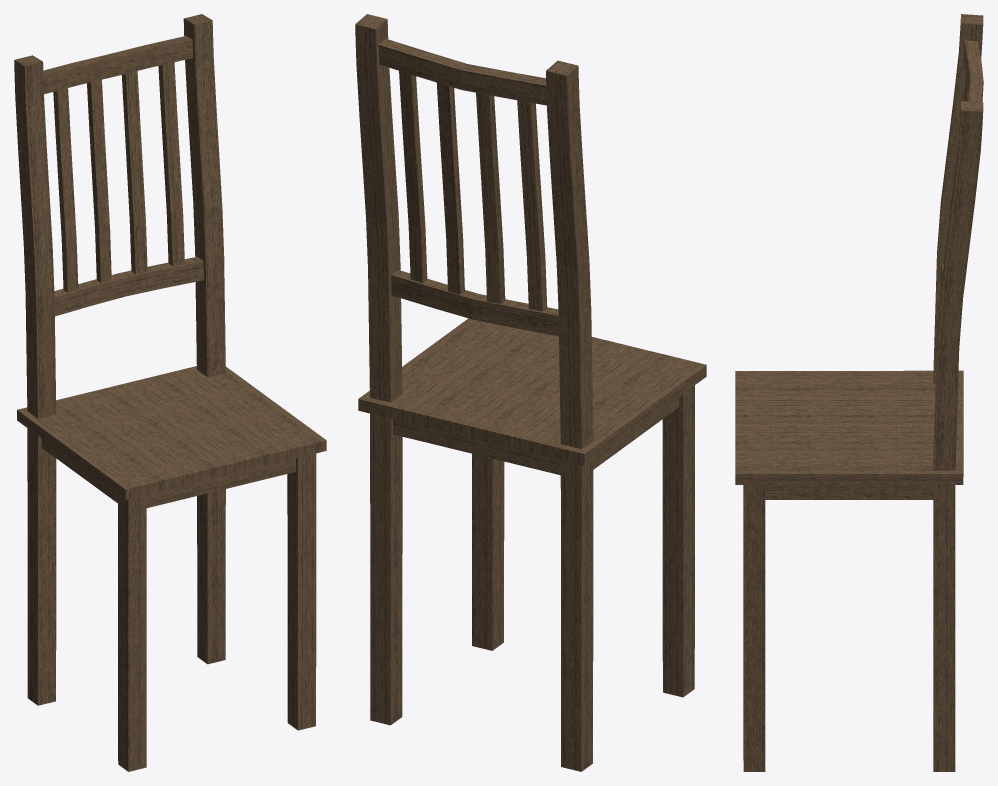
File: Stuhl.fbx
The picture shows the model from 3 angles, left to right: view 1: azimuth 30°, elevation 25°; view 2: azimuth 150°, elevation 25°; view 3: azimuth 270°, elevation 25°; orthographic projection. The views are drawn at different scales.
Visible parts, largest first — view 1: Stuhl; view 2: Stuhl; view 3: Stuhl.
Boxes of the visible parts, <box> form: Stuhl: <box>14,14,326,771</box>; Stuhl: <box>355,14,706,771</box>; Stuhl: <box>735,14,983,771</box>.
Size of the model in its own units: 0.4229 by 1.27 by 0.4306.
